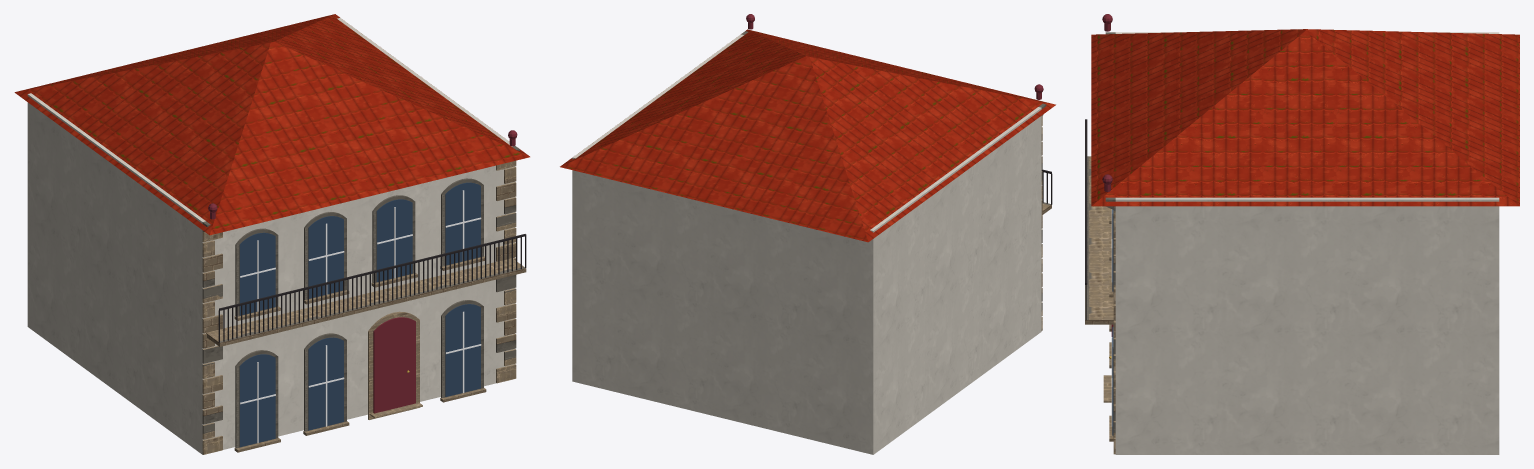
File: sobrado_w10_0.gltf
The picture shows the model from 3 angles, left to right: view 1: azimuth 30°, elevation 25°; view 2: azimuth 150°, elevation 25°; view 3: azimuth 270°, elevation 25°; orthographic projection. The views are drawn at different scales.
Parts seen in each view (by area): view 1: sobrado_w10_0; view 2: sobrado_w10_0; view 3: sobrado_w10_0.
Part boxes in pixels (x1,y1,x2,y2): sobrado_w10_0: (14,14,529,454); sobrado_w10_0: (560,14,1055,454); sobrado_w10_0: (1085,14,1519,454).
Size of what is drawn, in the model's own units: 9.96 by 9.37 by 10.65.
Materials: 6 (3 with a texture image).
